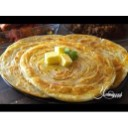parota: (27, 44, 114, 98), (1, 34, 64, 100), (66, 35, 128, 90)
